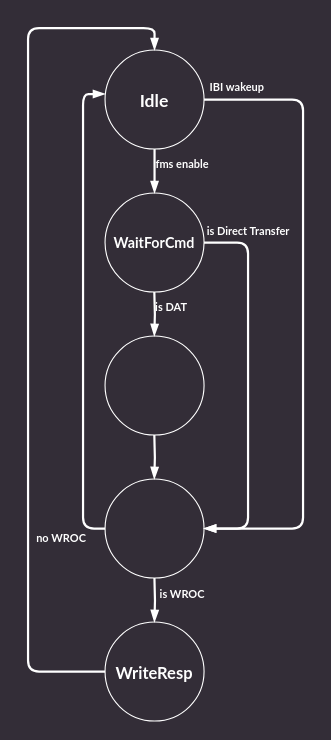
The diagram is 331 pixels wide and 740 high, and some of its shapes have lost their labels. Here are the shapes that lost their labels. From the top down, the centre of each, then its label:
At point 154,385: "FetchDAT".
At point 154,528: "Execute".
